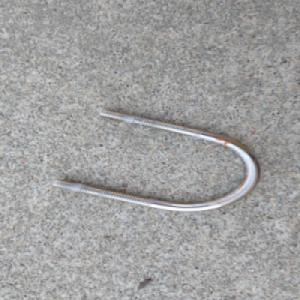ClampPart: (50, 108, 264, 215)
